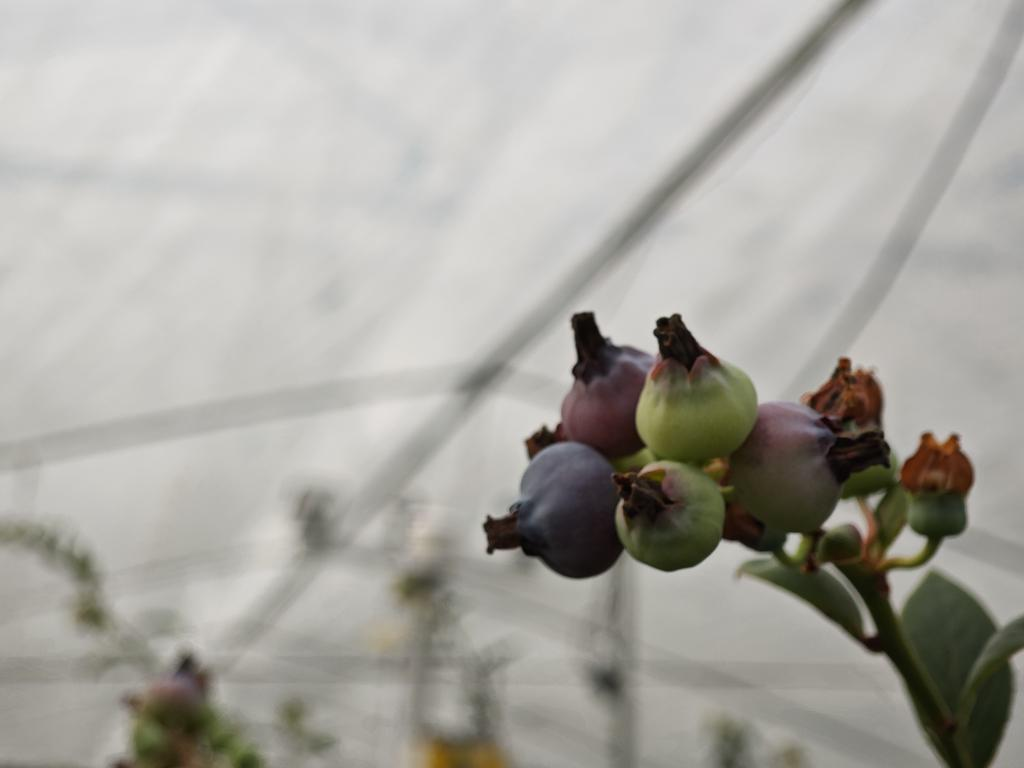RipeBlueBerry: (515, 440, 625, 581)
Semi-RipeBlueBerry: (559, 340, 651, 453)
UnripeBlueBerry: (636, 343, 760, 460), (738, 399, 848, 528), (613, 458, 724, 573)
